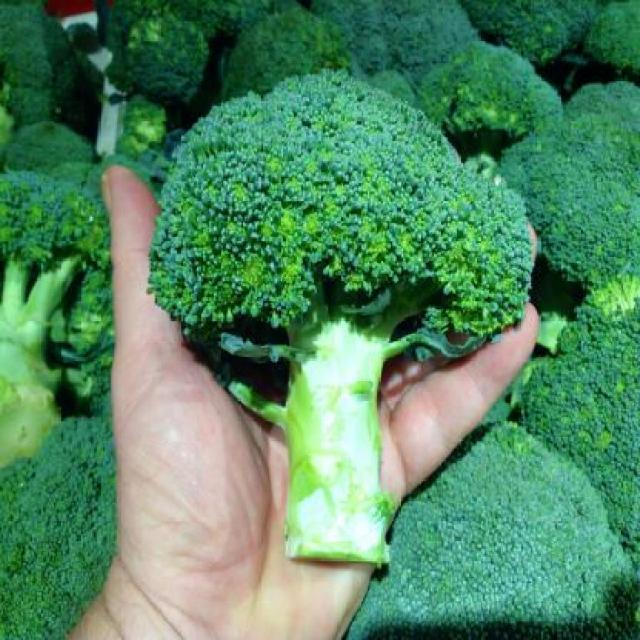Broccoli: (0, 0, 638, 638), (147, 66, 536, 569)
